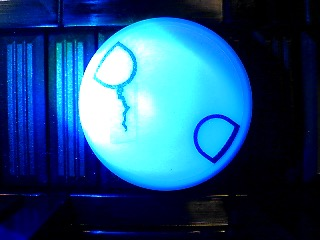CRACK: (79, 17, 253, 192)
